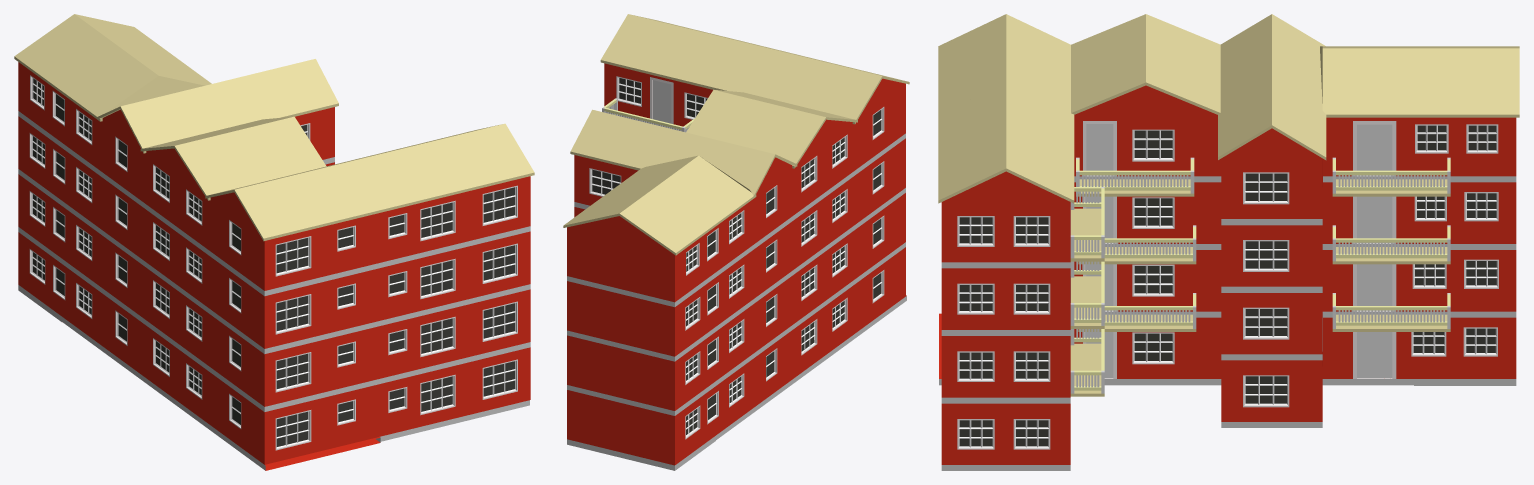
File: Apartment 10.fbx
The picture shows the model from 3 angles, left to right: view 1: azimuth 30°, elevation 25°; view 2: azimuth 150°, elevation 25°; view 3: azimuth 270°, elevation 25°; orthographic projection. The views are drawn at different scales.
Visible parts, largest first — view 1: building_003; view 2: building_003; view 3: building_003.
Boxes of the visible parts, x1=… form: building_003: x1=14, y1=14, x2=534, y2=470; building_003: x1=563, y1=14, x2=909, y2=470; building_003: x1=938, y1=14, x2=1519, y2=470.
Bounding box in the file's own units: 1077 × 992 × 1714.
